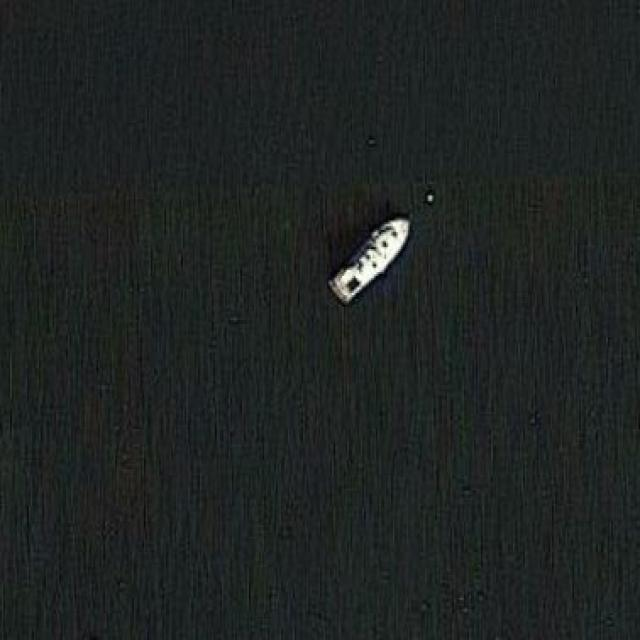boat: (320, 209, 413, 305)
